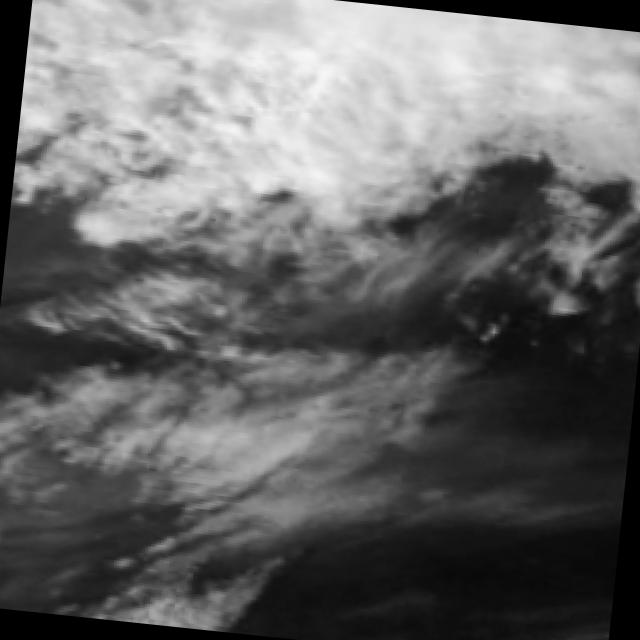CB: (227, 0, 483, 177), (449, 13, 640, 152), (27, 0, 244, 119)
